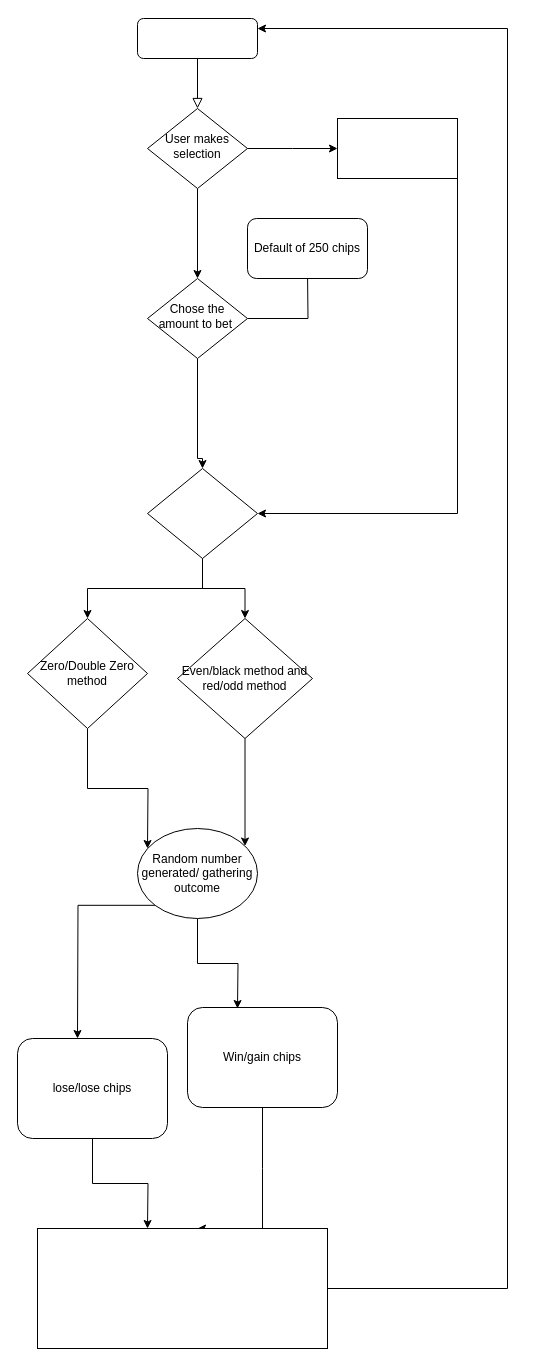
Some shapes in this 533 by 1366 pixel diagram are drawn without their labels. The centre of each missing label's shape, as x and y in pixels:
Goes into method of choice: the point at 202,513
Prompt user for selection on what to bet: the point at 197,38
Repeat until out of chips: the point at 182,1288
Switch(UserInput): the point at 397,148
